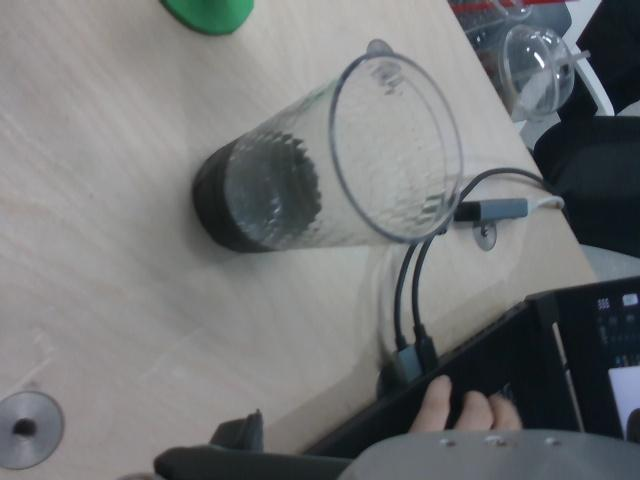black_cup: (192, 131, 324, 253)
